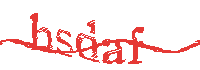a: (103, 39, 124, 65)
d: (77, 21, 100, 64)
f: (127, 25, 146, 66)
h: (29, 13, 54, 51)
s: (56, 29, 73, 57)
